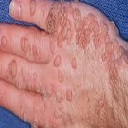Wart: (47, 4, 109, 51)
